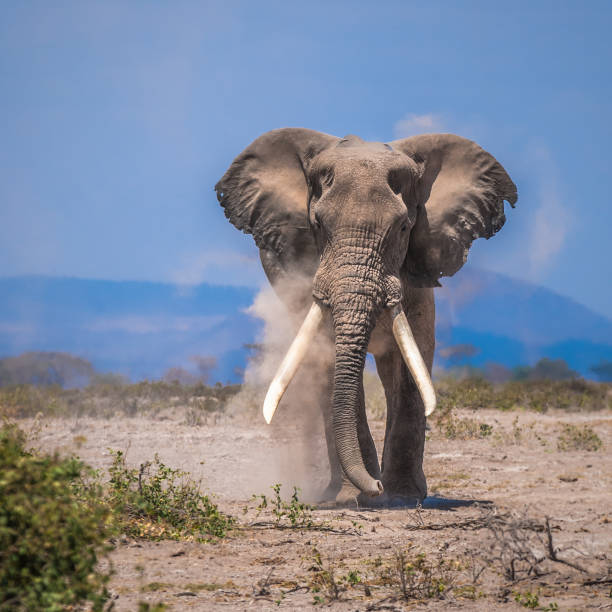africanelephant: (248, 143, 459, 430)
